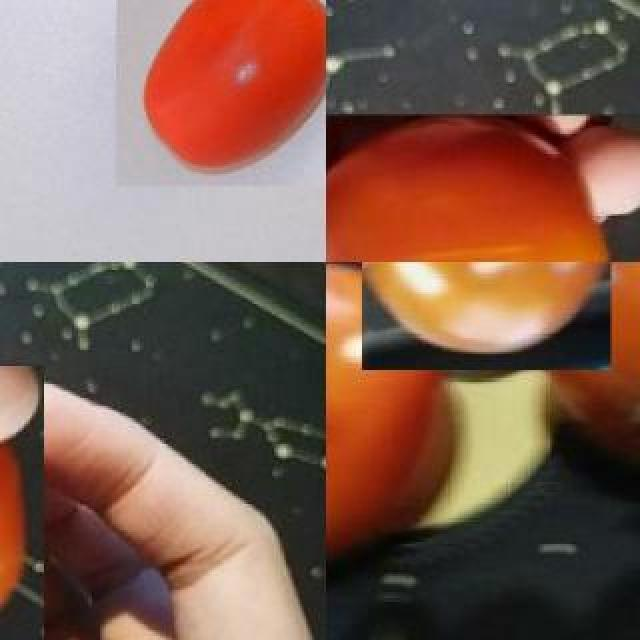tomato: (327, 263, 457, 589), (117, 1, 327, 187), (363, 263, 612, 371)
